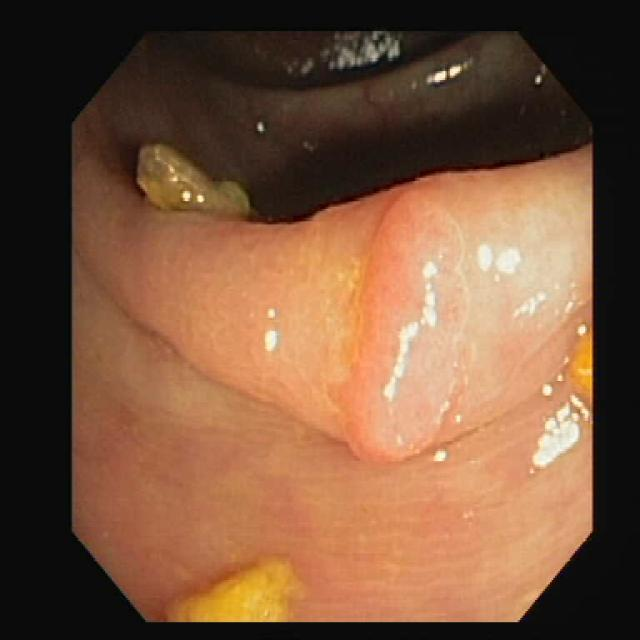tumor: (360, 178, 463, 458)
